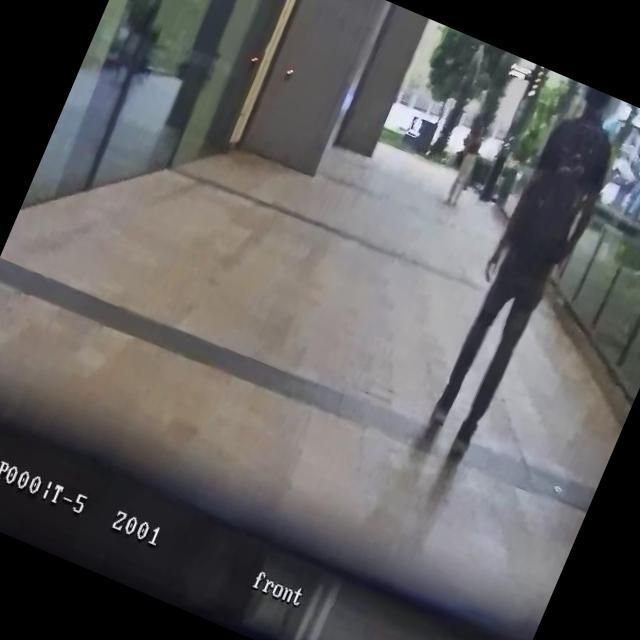person: (414, 76, 638, 462), (439, 120, 492, 210)
